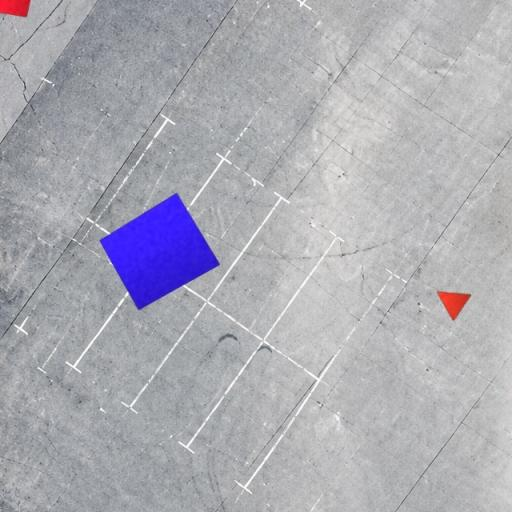BLUE_SQUARE: (98, 192, 221, 311)
